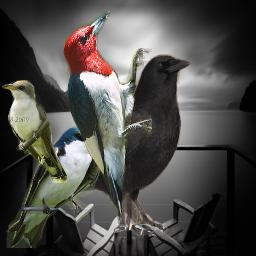Crow: (23, 51, 194, 238)
Cuckoo: (2, 79, 67, 183)
Swallow: (6, 125, 101, 248)
Woodpecker: (62, 11, 152, 224)
